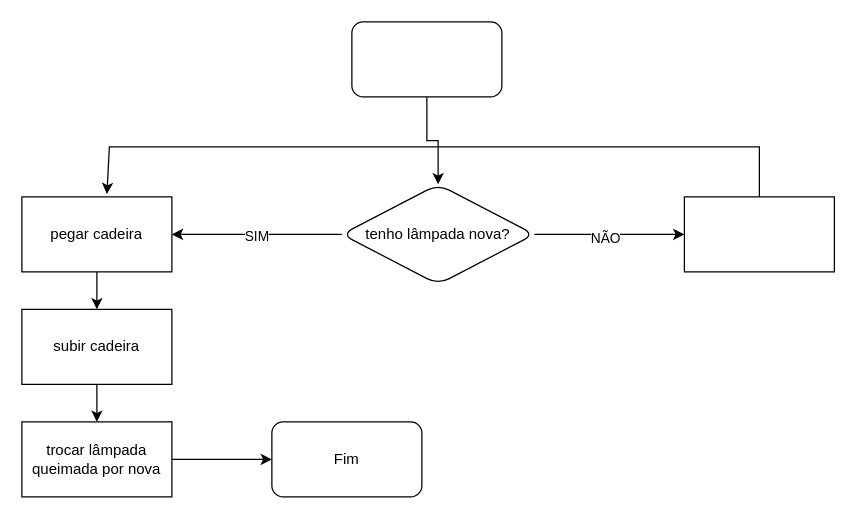
Some shapes in this 856 by 519 pixel diagram are drawn without their labels. Each missing label, with the centre of its shape:
Inicio: [426,59]
Passar na loja e comprar nova: [758,234]
